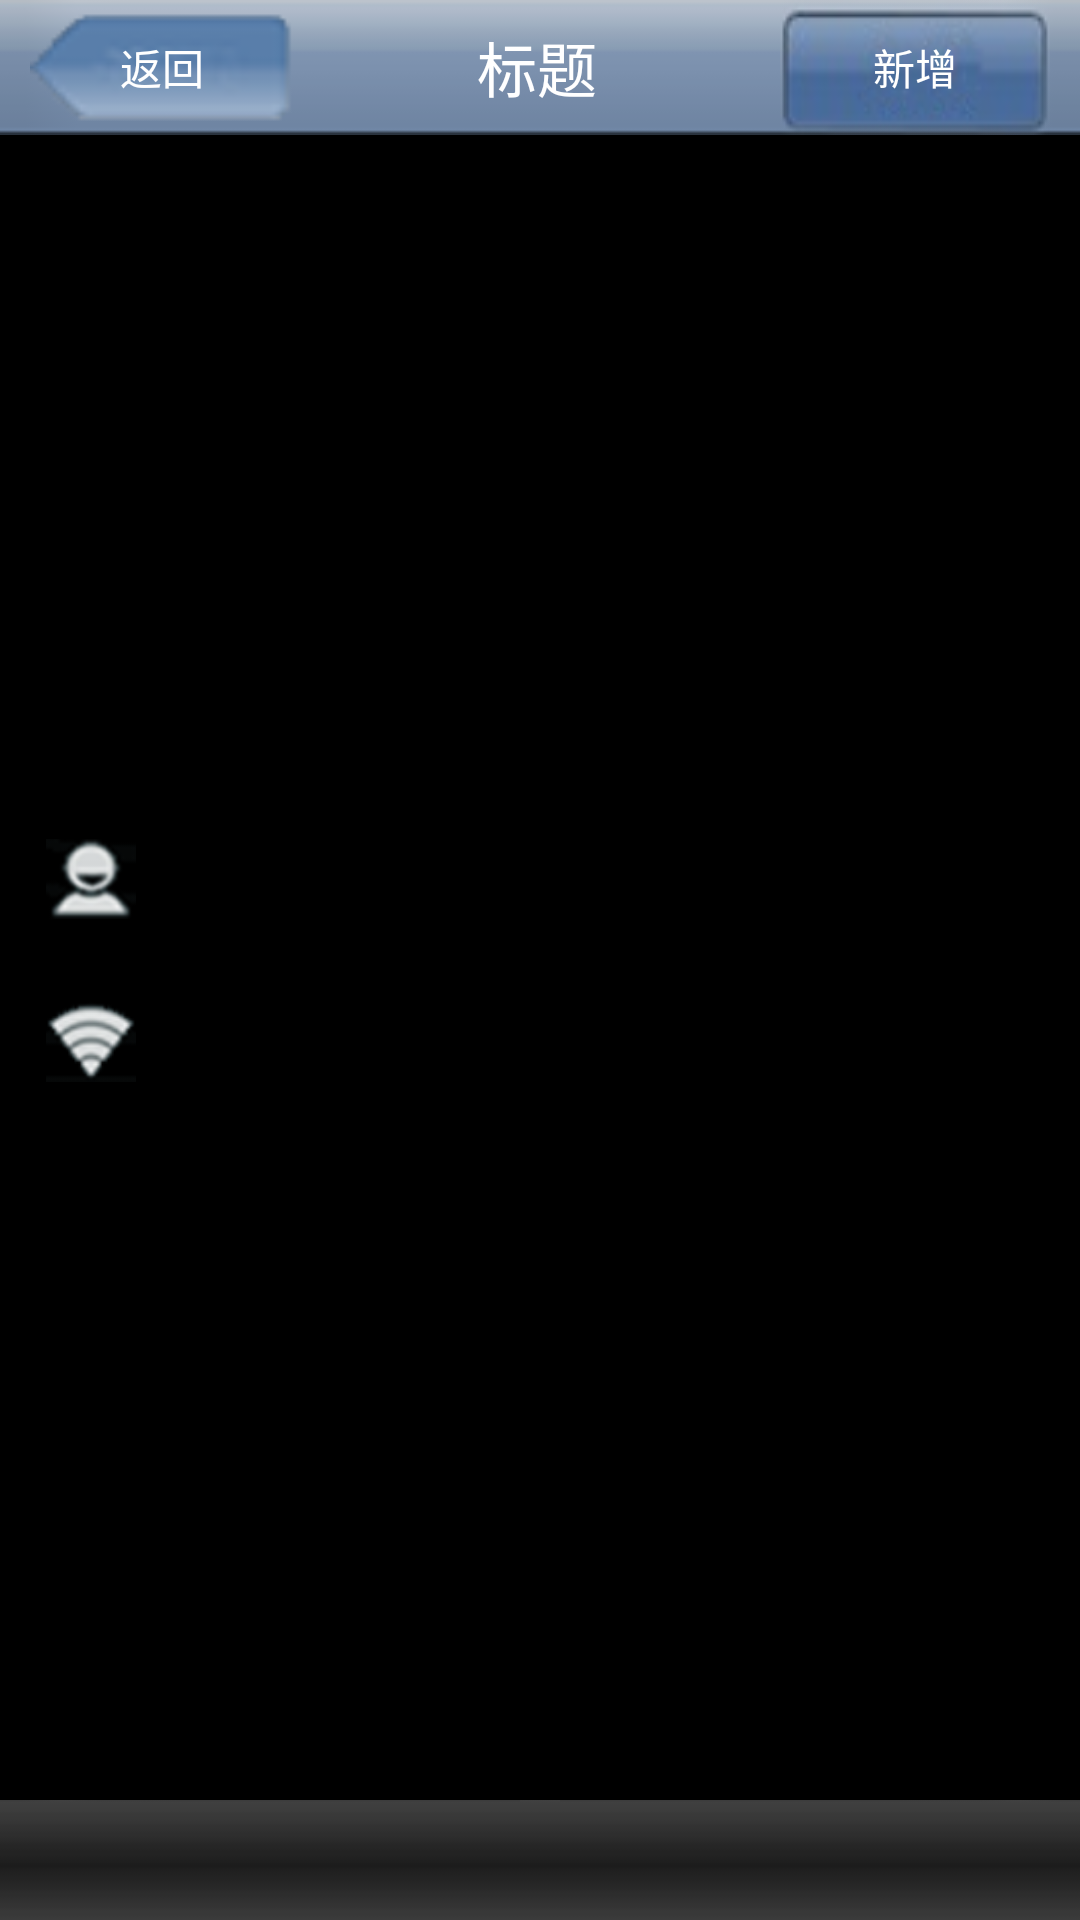

Icon click points for this 1080px x 1920px phone screenshot, format [x,y]:
art person: [91,879]
